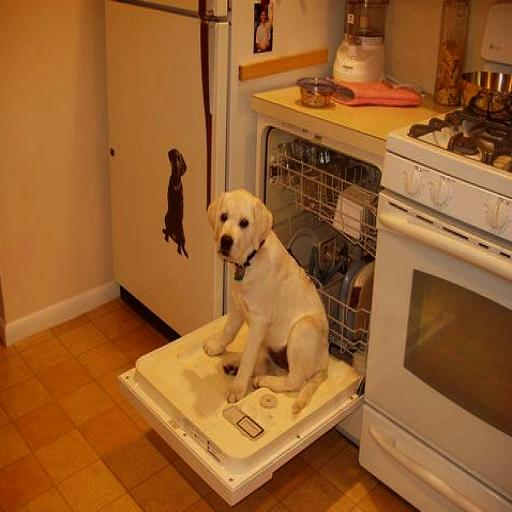dog_face: (206, 191, 275, 270)
